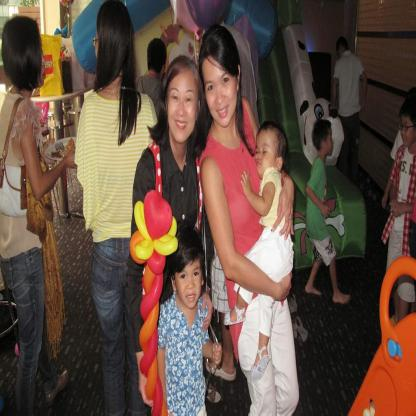face: (202, 56, 238, 128), (169, 73, 198, 141), (176, 254, 203, 308), (32, 24, 47, 88), (256, 131, 277, 176), (401, 114, 416, 147), (325, 130, 334, 157)
